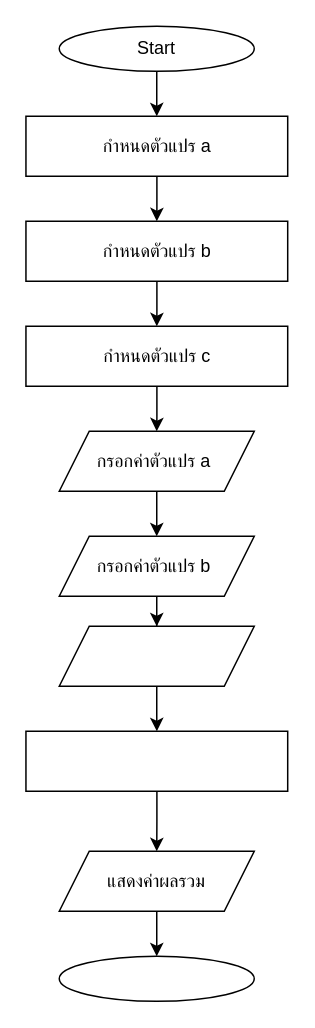
This 315x1028 diagram has some shape labels left out. The box of each missing label's shape, as (x1, y1, x2, y2) in pixels:
End: (58, 955, 254, 1001)
กรอกค่าตัวแปร c: (58, 625, 254, 686)
คำนวน a + b + c: (24, 730, 288, 791)
